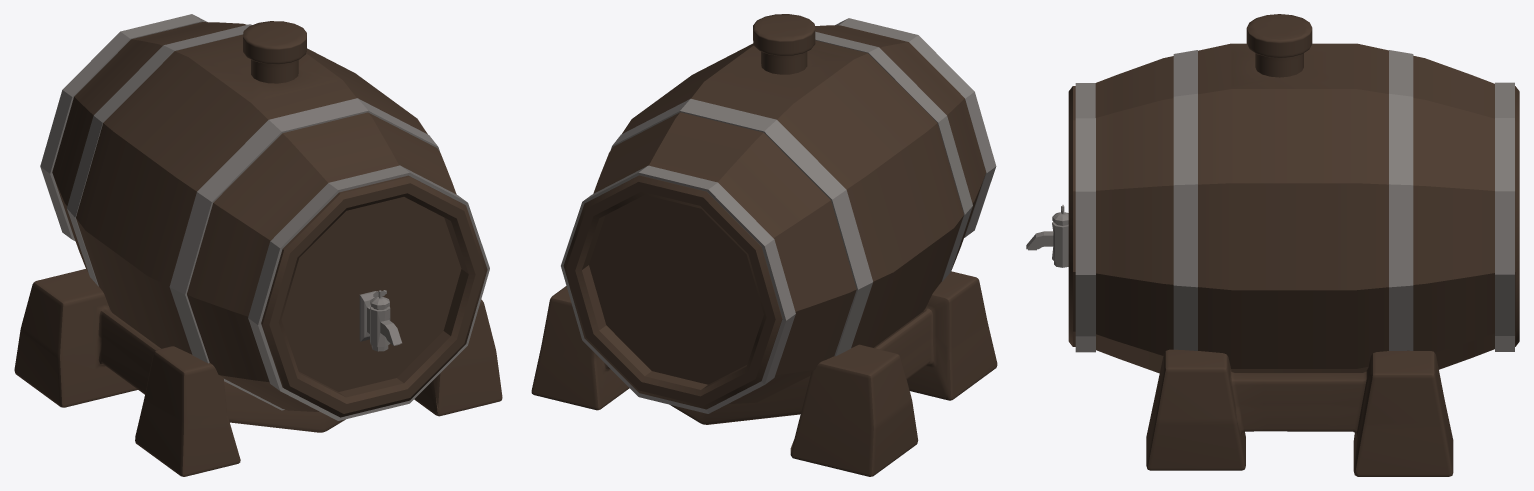
The model's file is Oak1.fbx.
3 views of the same model, side by side, from view 1: azimuth 30°, elevation 25°; view 2: azimuth 150°, elevation 25°; view 3: azimuth 270°, elevation 25° (orthographic). The views are drawn at different scales.
Parts seen in each view (by area): view 1: oak00, pedestal0, Metal1, faucet0; view 2: oak00, pedestal0, Metal1; view 3: oak00, pedestal0, Metal1, faucet0.
Part boxes in pixels (x1=…): oak00: x1=52, y1=21, x2=487, y2=417; pedestal0: x1=14, y1=269, x2=502, y2=476; Metal1: x1=40, y1=14, x2=489, y2=420; faucet0: x1=359, y1=290, x2=401, y2=351; oak00: x1=563, y1=14, x2=985, y2=409; pedestal0: x1=531, y1=271, x2=997, y2=476; Metal1: x1=561, y1=18, x2=996, y2=413; oak00: x1=1068, y1=14, x2=1519, y2=373; pedestal0: x1=1146, y1=349, x2=1453, y2=476; Metal1: x1=1075, y1=50, x2=1514, y2=352; faucet0: x1=1026, y1=205, x2=1068, y2=267.
Bounding box in the file's own units: 10.5 × 10.27 × 12.57.
